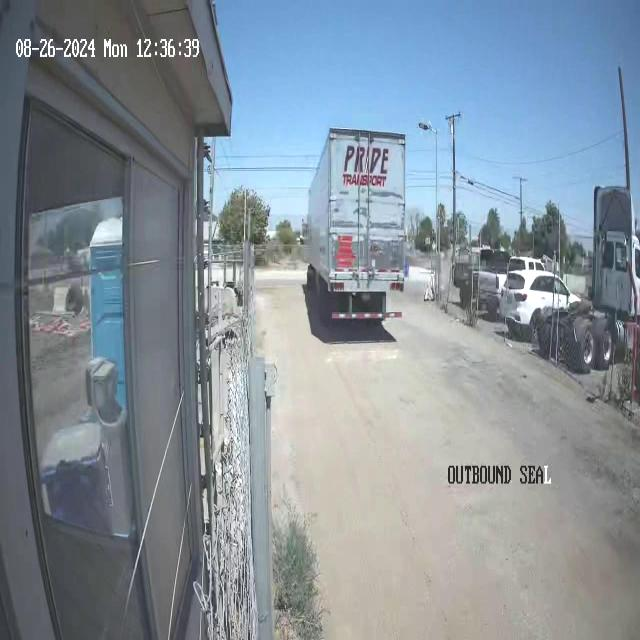CONTAINER: (305, 123, 408, 300)
